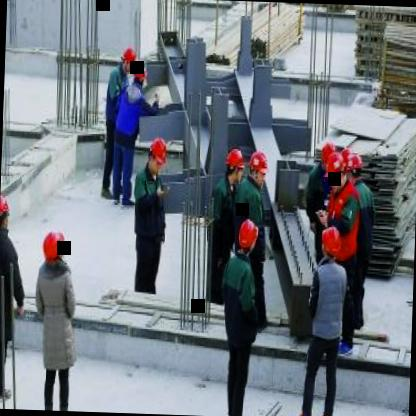helmet: (246, 149, 271, 193), (42, 228, 68, 270), (317, 226, 343, 264), (147, 134, 169, 178), (325, 152, 348, 193), (237, 218, 258, 262), (222, 145, 243, 186), (120, 41, 136, 78), (347, 152, 363, 186), (130, 62, 146, 91), (0, 191, 10, 233)
